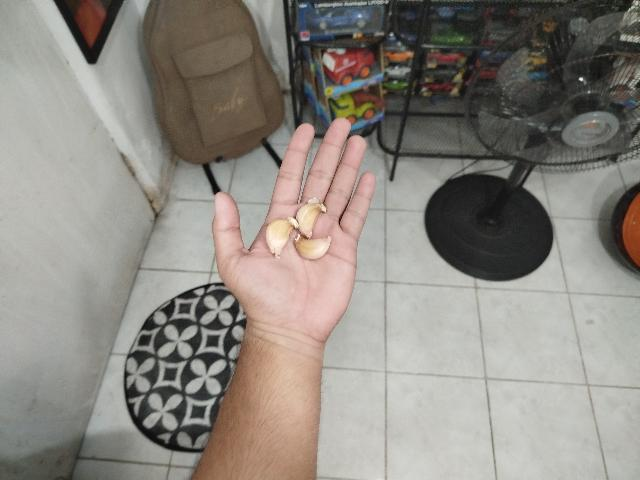garlic: (266, 216, 298, 258), (294, 234, 332, 260)
